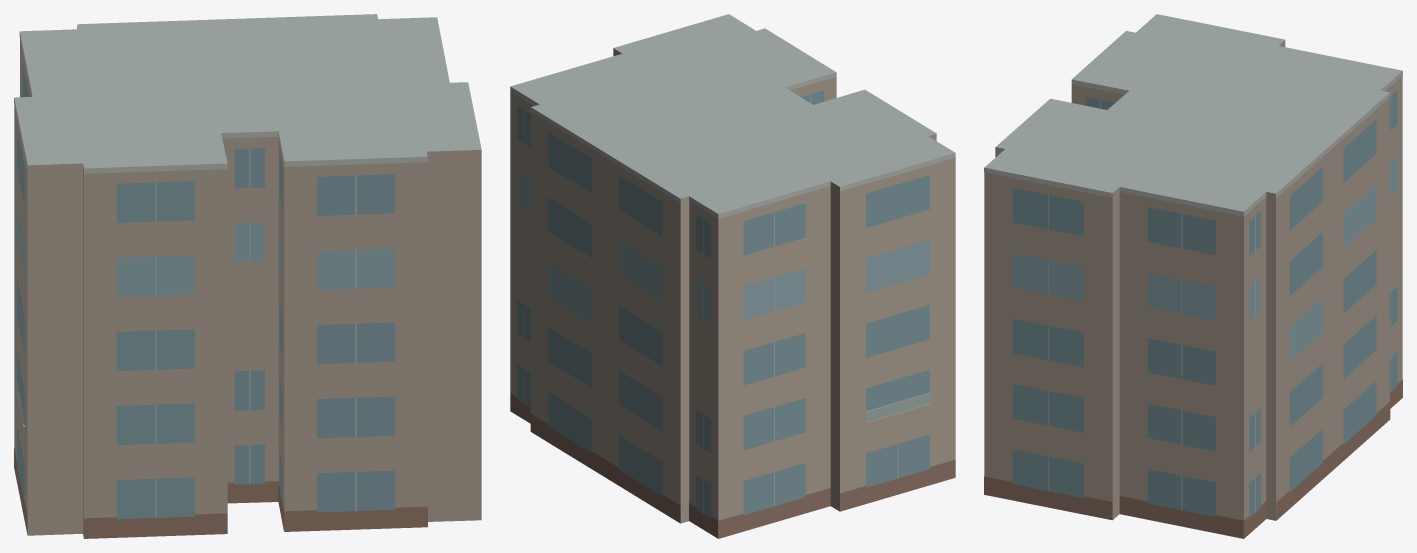
The model's file is survey-upis-32708796.glb.
3 renders of one model, left to right at view 1: azimuth 30°, elevation 25°; view 2: azimuth 150°, elevation 25°; view 3: azimuth 270°, elevation 25°, orthographic. The views are drawn at different scales.
Parts seen in each view (by area): view 1: survey-upis-32708796.tmp; view 2: survey-upis-32708796.tmp; view 3: survey-upis-32708796.tmp.
Part boxes in pixels (<box>): survey-upis-32708796.tmp: <box>14,14,481,538</box>; survey-upis-32708796.tmp: <box>510,14,955,538</box>; survey-upis-32708796.tmp: <box>984,14,1402,538</box>.
Bounding box in the file's own units: 21.53 × 16.6 × 19.25.
